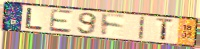9: (76, 12, 99, 35)
E: (47, 8, 74, 34)
F: (100, 12, 127, 37)
I: (137, 16, 147, 41)
L: (24, 7, 45, 31)
T: (155, 17, 175, 42)
